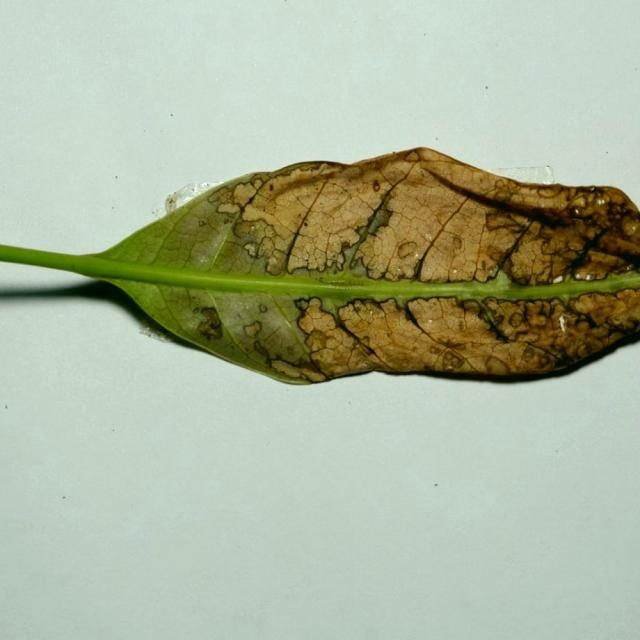Anthracnose: (503, 226, 577, 283), (485, 297, 569, 344), (241, 199, 301, 235), (513, 340, 563, 367), (480, 218, 526, 247), (433, 185, 466, 223), (286, 242, 325, 274), (570, 255, 617, 281), (599, 228, 640, 256), (190, 212, 228, 239), (346, 344, 383, 371), (316, 186, 353, 213), (471, 253, 503, 282), (485, 211, 529, 232), (227, 180, 260, 208), (305, 329, 335, 353), (438, 346, 469, 367), (572, 294, 604, 314), (367, 207, 394, 230), (265, 252, 288, 276), (293, 362, 323, 380), (366, 259, 389, 279), (485, 356, 511, 373), (215, 201, 241, 216), (397, 241, 418, 259), (396, 263, 419, 279), (621, 217, 639, 237), (243, 320, 263, 337), (253, 341, 271, 359), (354, 343, 374, 359), (569, 195, 589, 210), (537, 185, 560, 198), (294, 297, 312, 313), (440, 338, 465, 349), (244, 241, 260, 258), (508, 312, 525, 327), (297, 164, 322, 173), (593, 195, 608, 210), (334, 251, 346, 269), (539, 226, 554, 240), (611, 315, 629, 326), (201, 329, 217, 341), (404, 151, 421, 162), (451, 236, 464, 250), (496, 179, 511, 191), (495, 191, 511, 202), (251, 175, 264, 188), (358, 336, 372, 348), (429, 345, 443, 354), (340, 240, 351, 251), (210, 319, 221, 330), (267, 256, 277, 268), (372, 180, 381, 192), (286, 346, 296, 356), (258, 303, 268, 313), (479, 260, 488, 270), (222, 217, 233, 225), (458, 319, 465, 330), (424, 233, 433, 241), (167, 197, 175, 206), (192, 306, 200, 314), (198, 220, 207, 227), (589, 185, 597, 192), (446, 364, 453, 371), (396, 266, 402, 273), (269, 183, 274, 191), (452, 268, 458, 274), (426, 318, 433, 323), (369, 309, 374, 316), (250, 225, 255, 231)
Mango: (0, 148, 639, 388)
